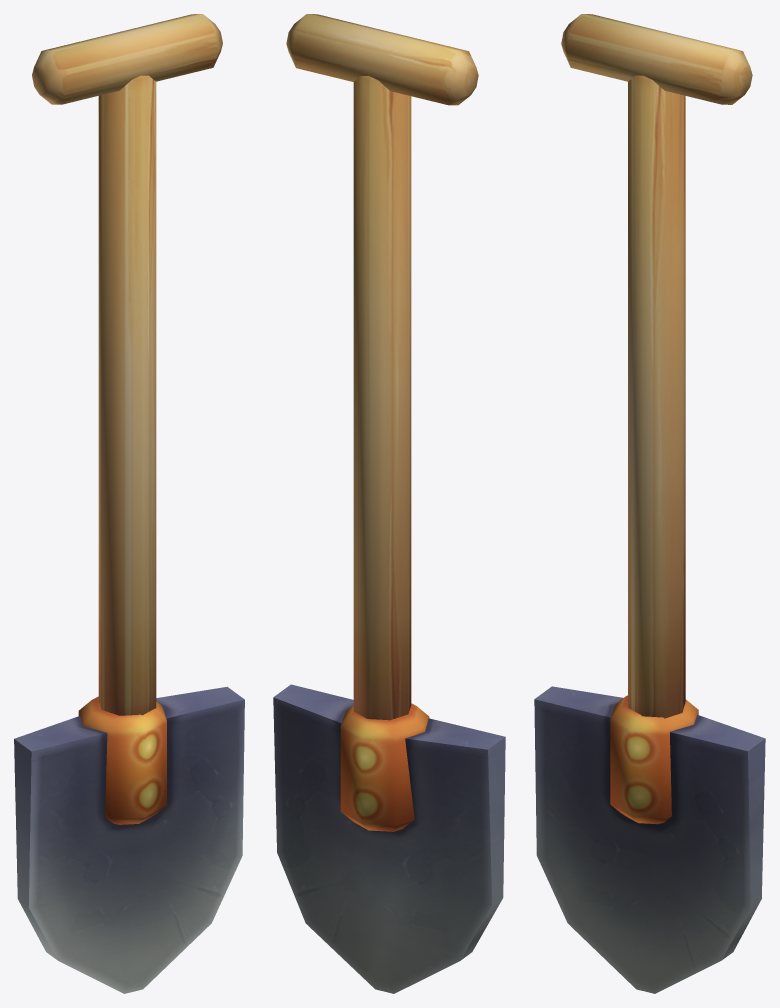
The model's file is SE_Spade_01.fbx.
The picture shows the model from 3 angles, left to right: view 1: azimuth 30°, elevation 25°; view 2: azimuth 150°, elevation 25°; view 3: azimuth 330°, elevation 25°; orthographic projection.
Parts seen in each view (by area): view 1: SE_Spade_01; view 2: SE_Spade_01; view 3: SE_Spade_01.
Part boxes in pixels (<box>): SE_Spade_01: <box>14,14,244,993</box>; SE_Spade_01: <box>273,14,505,993</box>; SE_Spade_01: <box>534,14,765,993</box>.
Size of the model in its own units: 1.1 by 4.68 by 0.4065.
